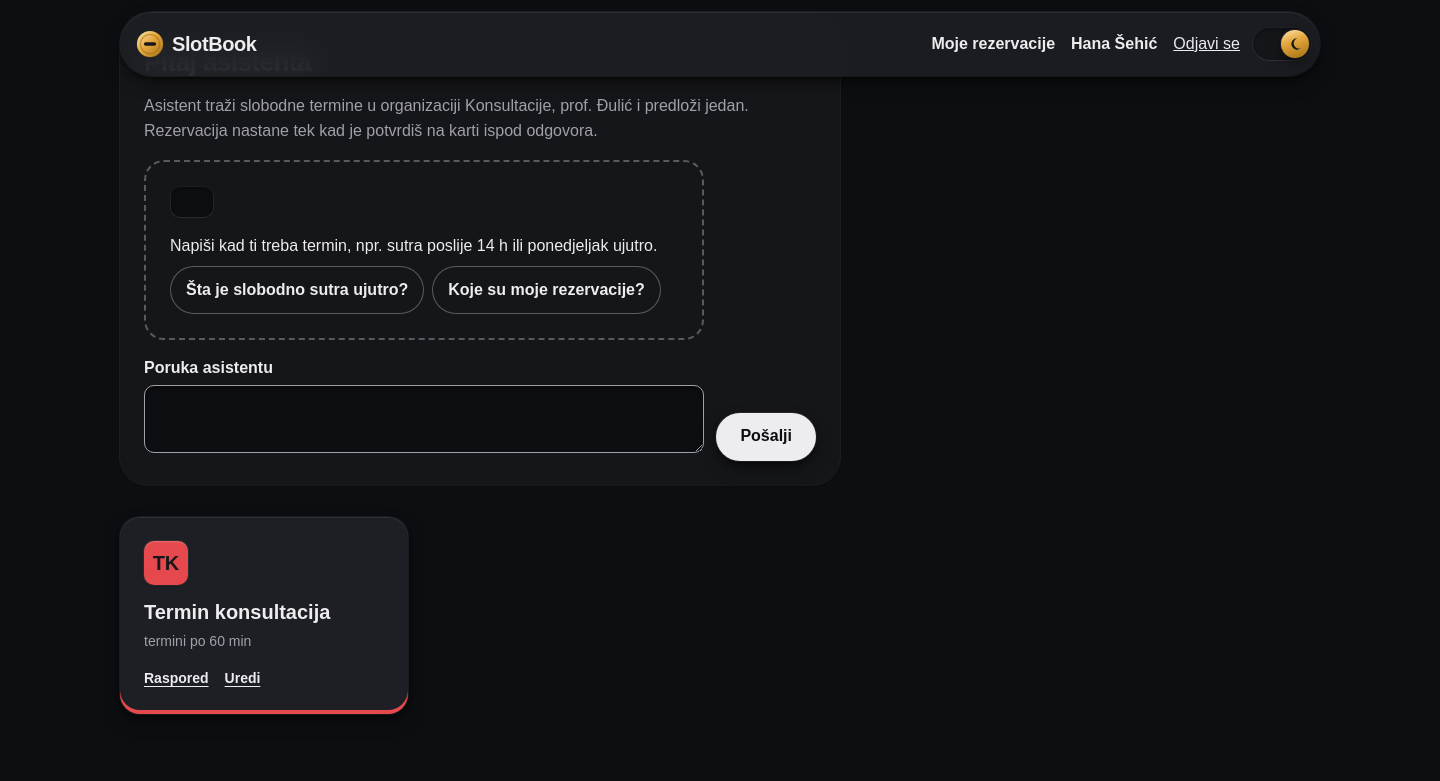
izmjena › osoba koja vodi resurs vidi popunjenu formu, a izmjena šalje i polja koja nisu dirana
(page scrolled)
Click the link with aria-label "Uredi: Termin konsultacija" at (242, 678), box [225, 670, 260, 686]
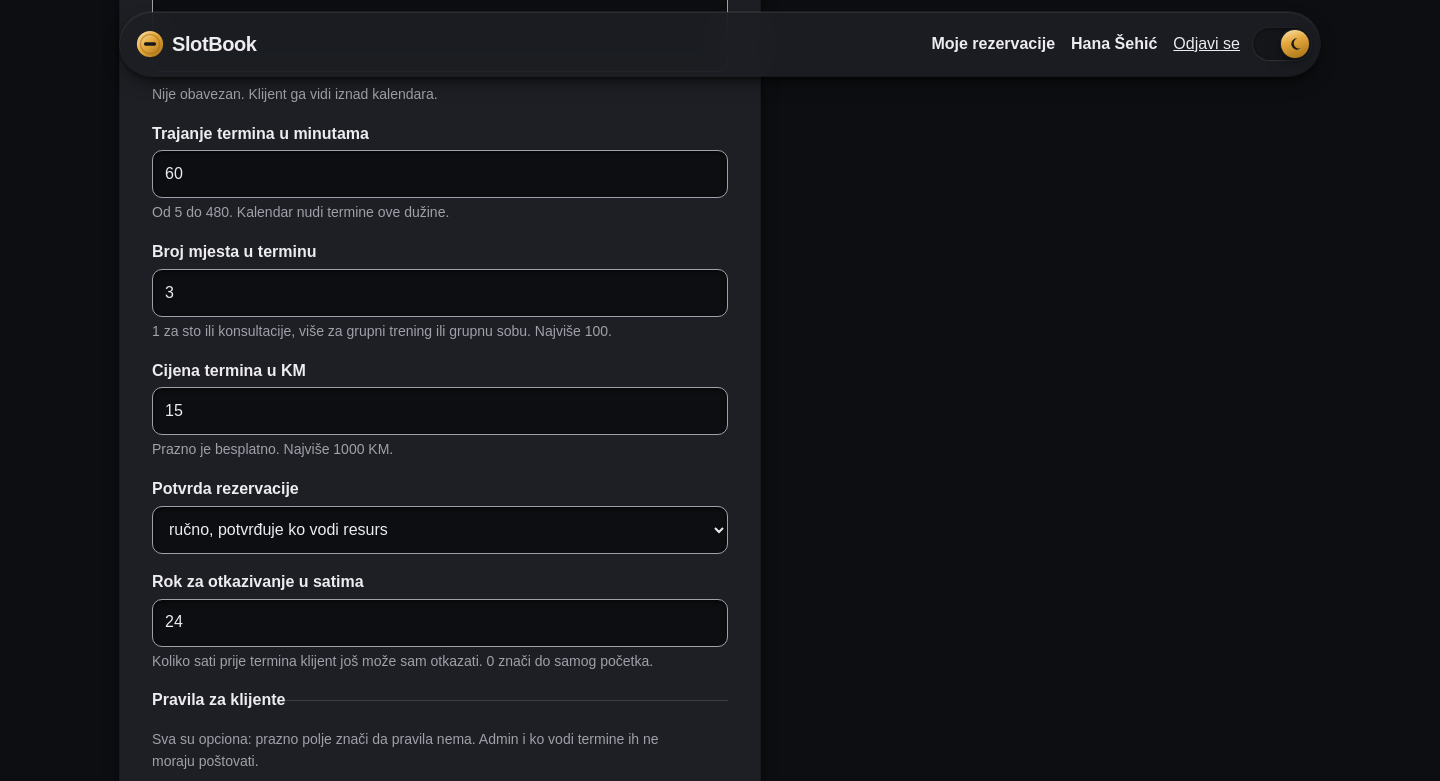
Expected: the number field labelled "Rok za otkazivanje u satima" holds "24", [152, 599, 728, 647]
Expected: the number field labelled "Broj mjesta u terminu" holds "3", [152, 269, 728, 317]
Expected: the field labelled "Cijena termina u KM" holds "15", [152, 387, 728, 435]
Replace the text in the number field labelled "Trajanje termina u minutama" with "30" at (440, 174), box [152, 150, 728, 198]
(page scrolled)
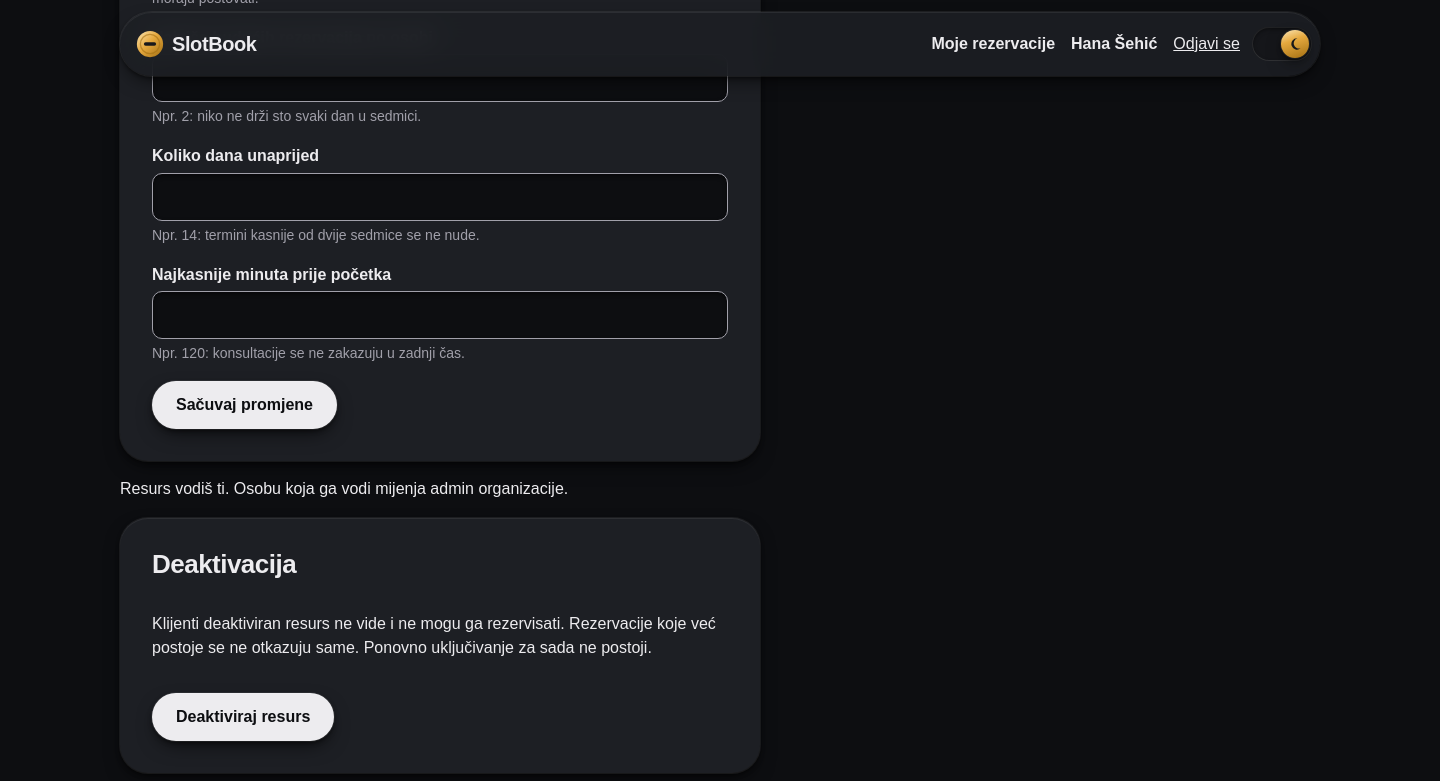
Click the button "Sačuvaj promjene" at (244, 405), box [152, 381, 337, 429]
(page scrolled)
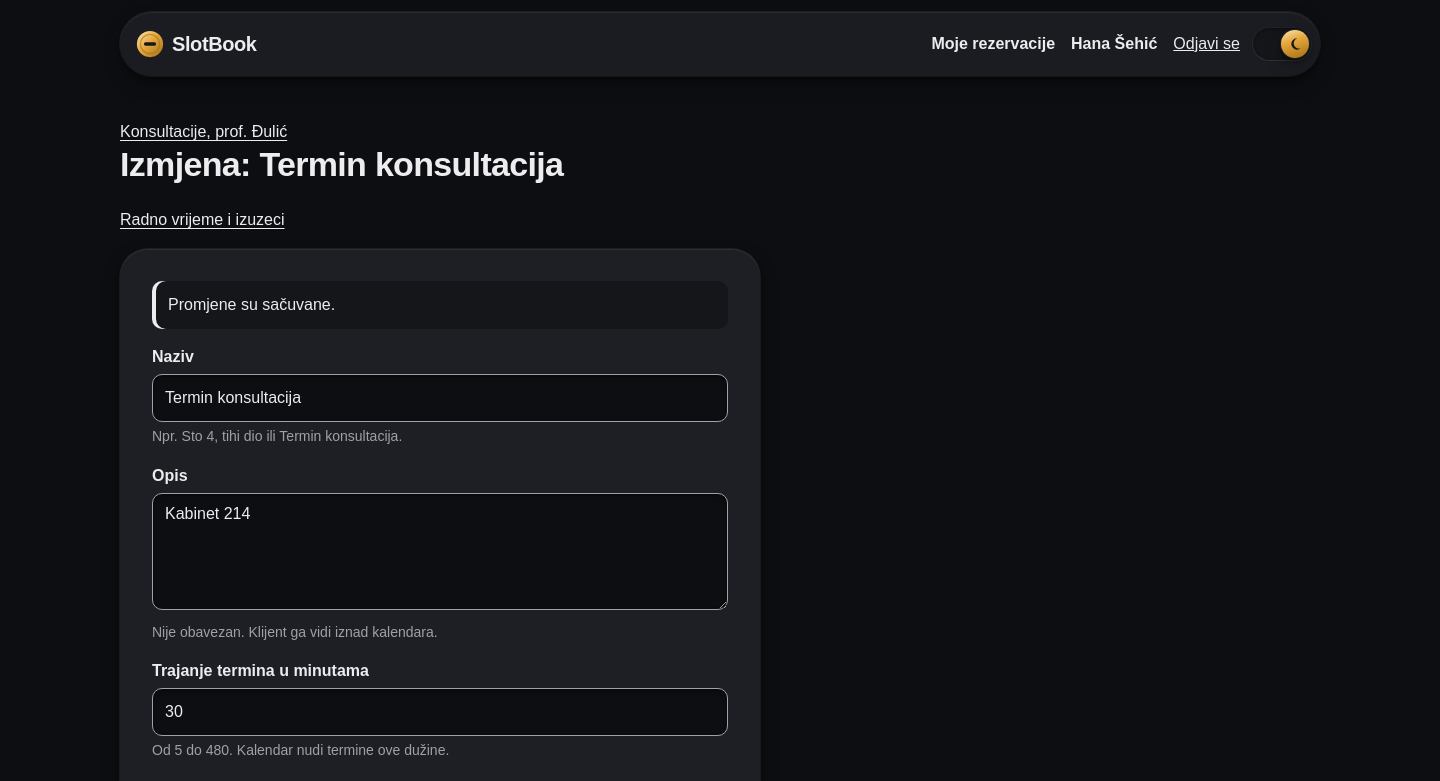
Click the link "Konsultacije, prof. Đulić" at (204, 132), box [120, 123, 287, 140]
(page scrolled)
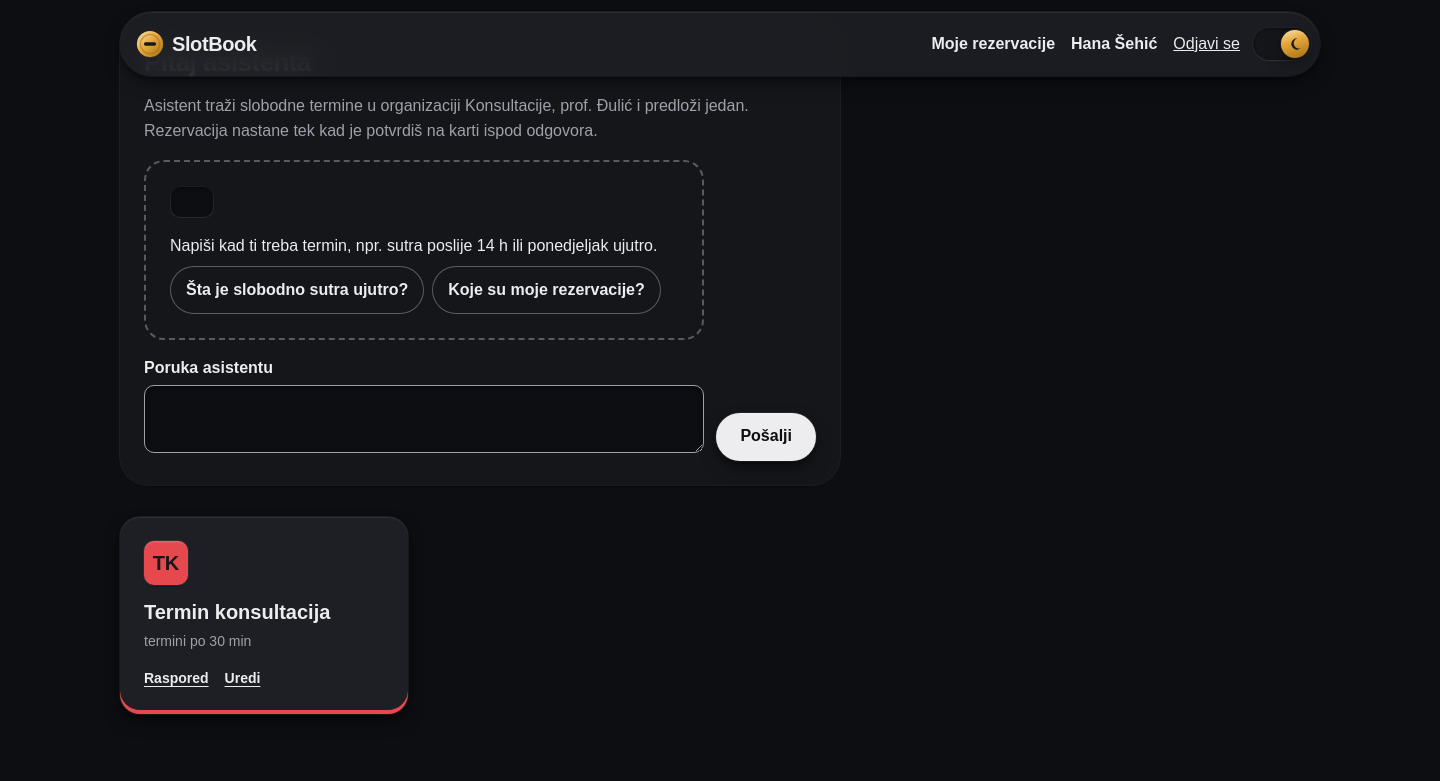
Expected: the text "termini po 30 min" is shown, [144, 633, 251, 649]
